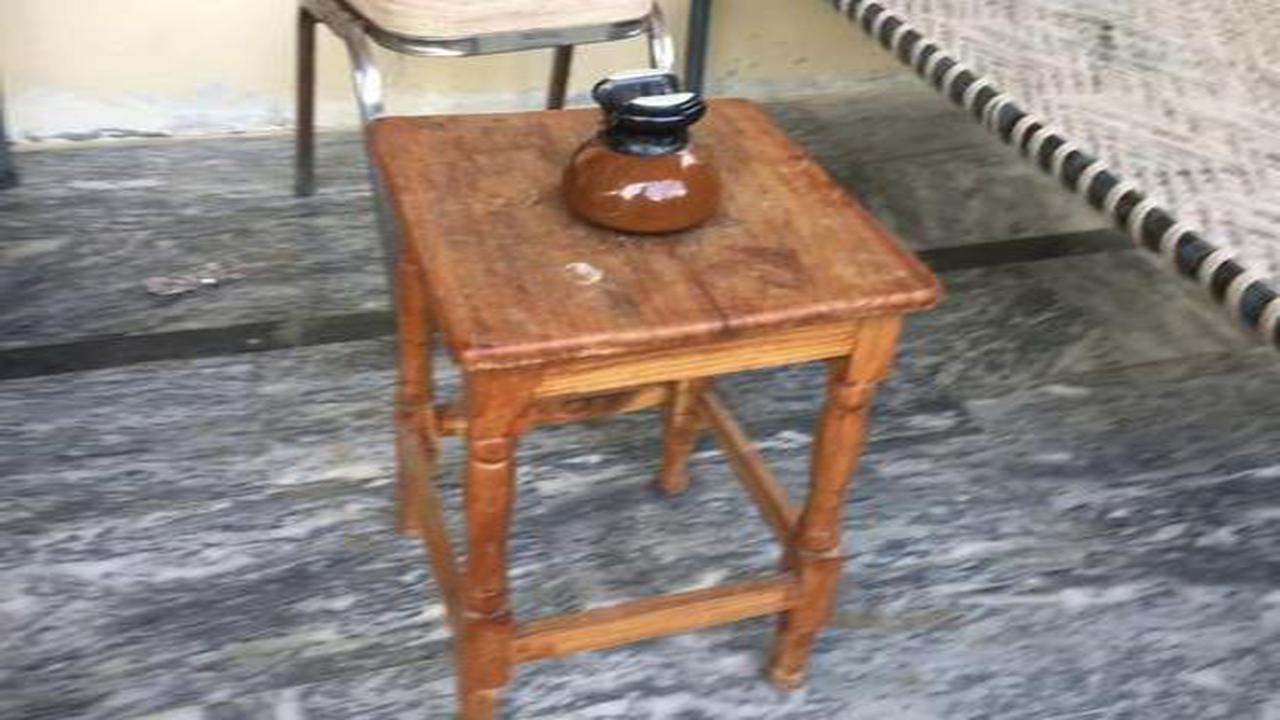insulator_pin: (539, 59, 736, 239)
